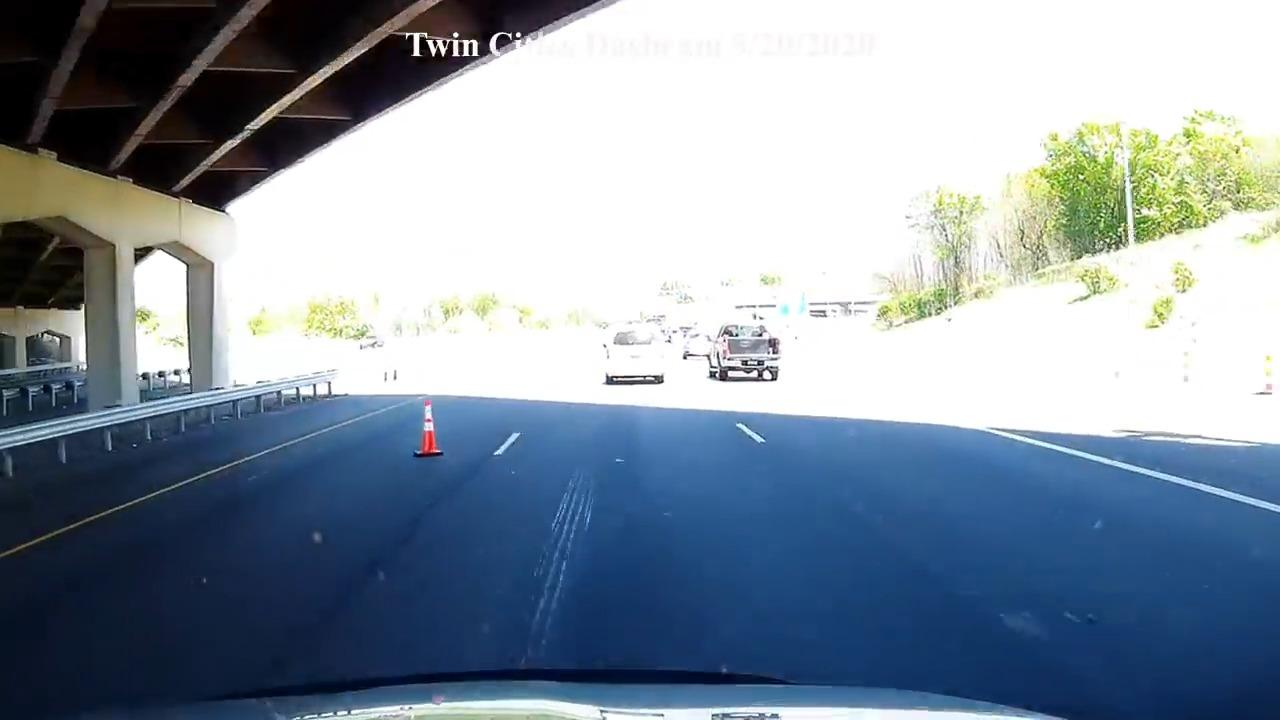car: (706, 323, 782, 382), (600, 323, 669, 385), (682, 330, 712, 361), (359, 336, 384, 351)
traffic cone: (413, 398, 444, 457), (1258, 354, 1276, 396)
